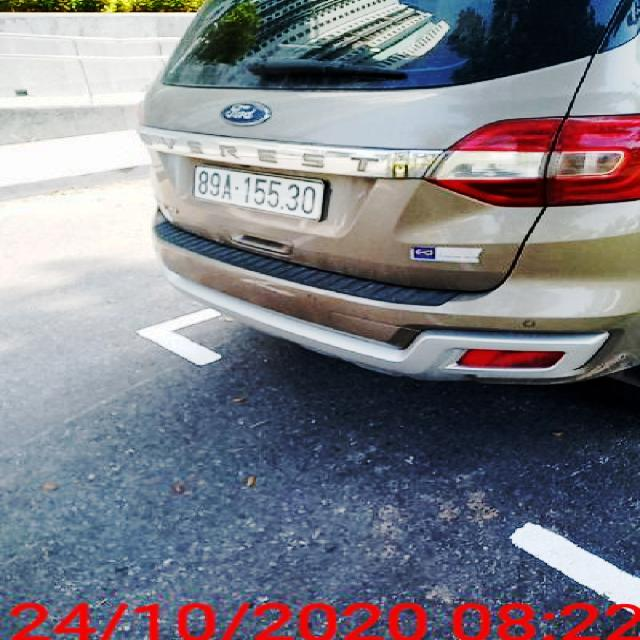license_plate: (196, 166, 327, 220)
